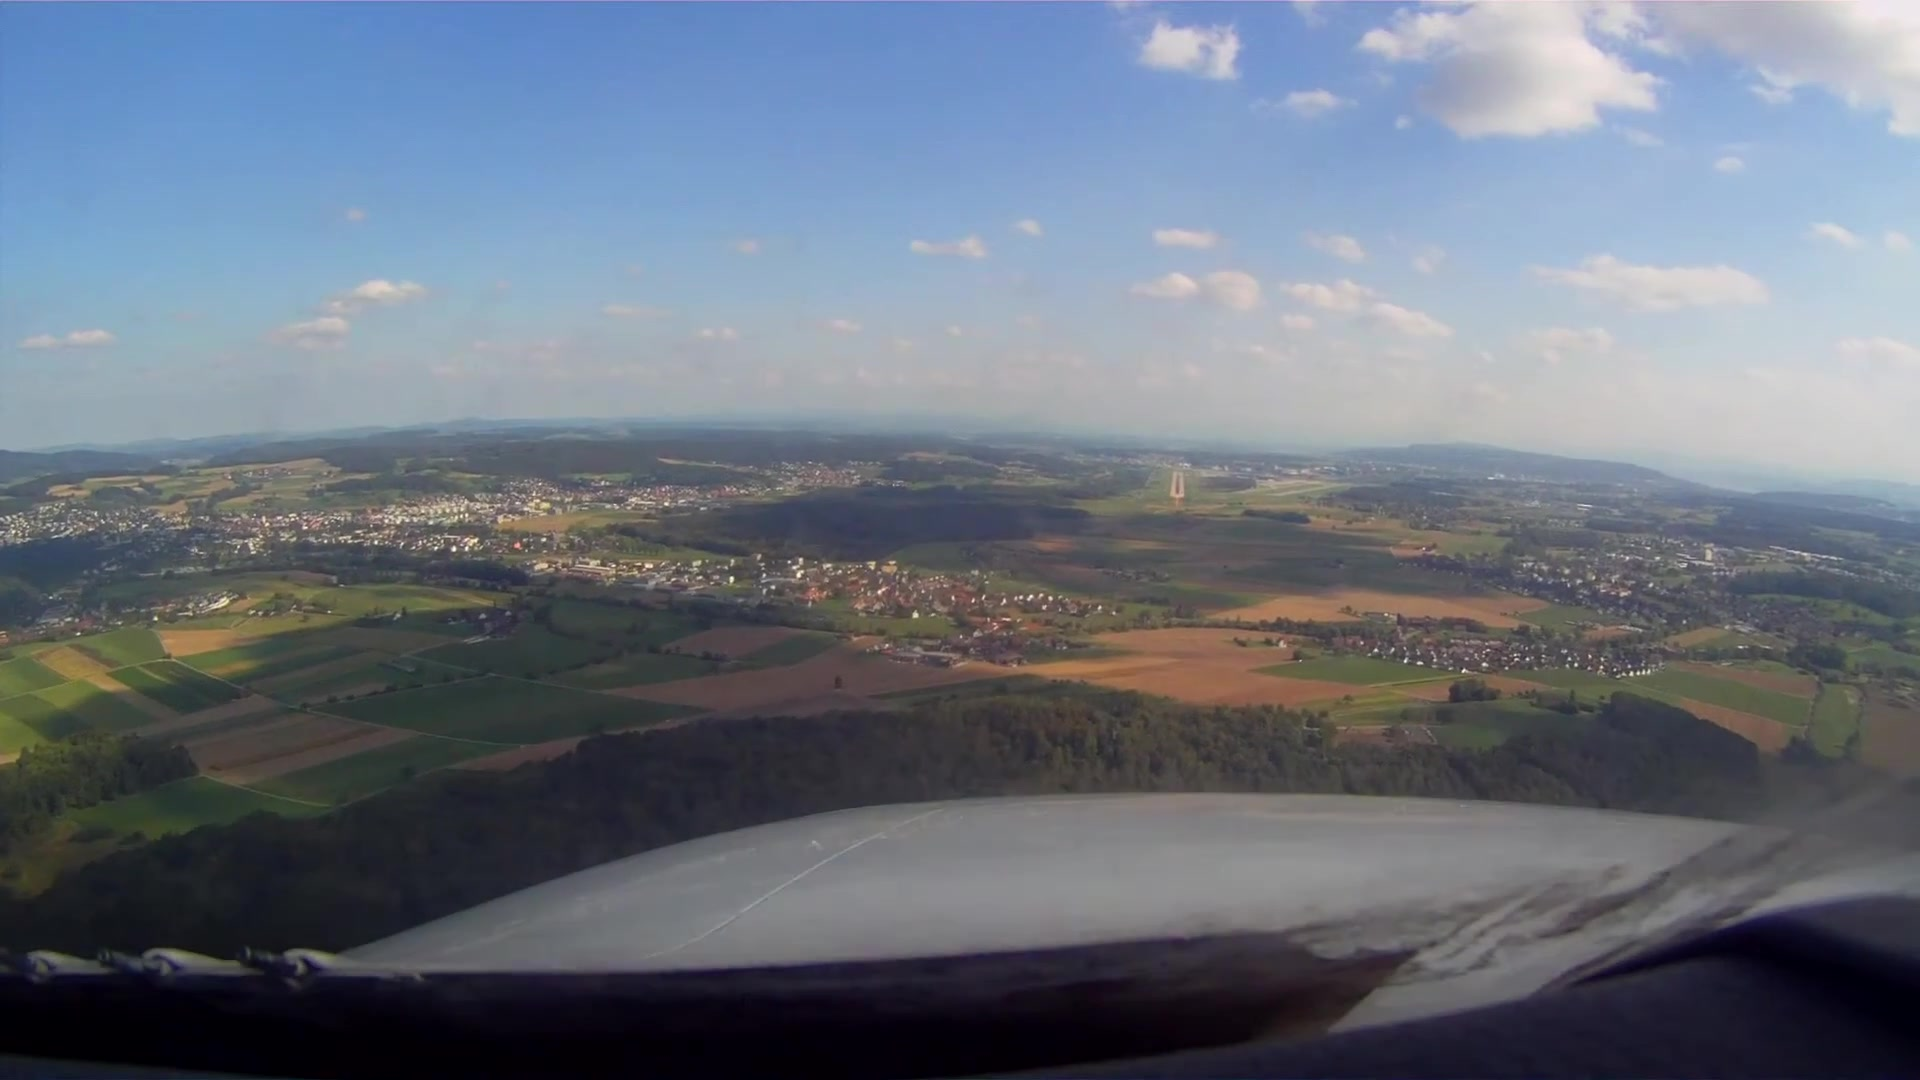runway: (1168, 471, 1185, 500)
